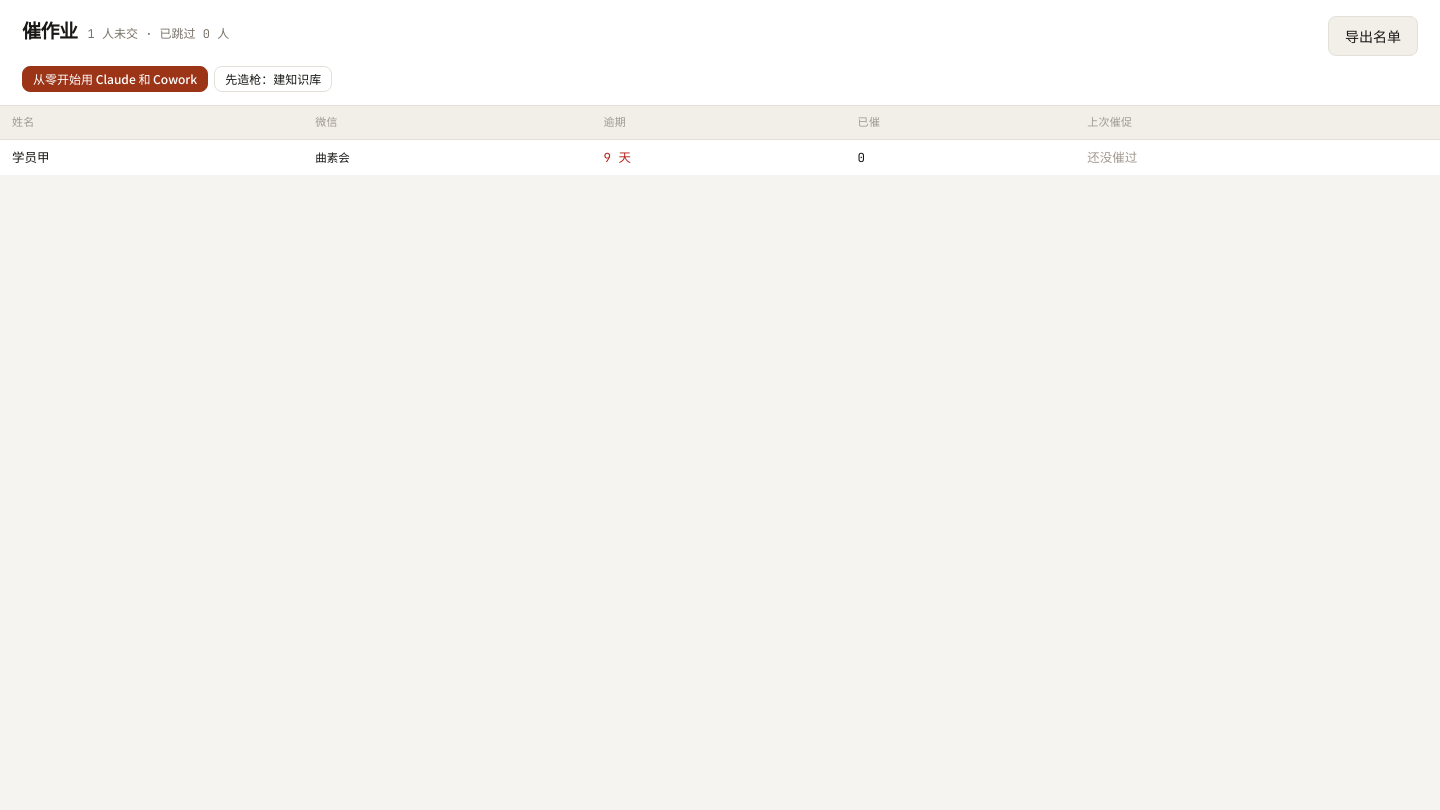
Test case: 发送邮件 › 发送失败时详情面板显示错误信息
Click the row with test id "nudge-alpha@example.com".
click(720, 157)  # box x1=0 y1=139 x2=1439 y2=175
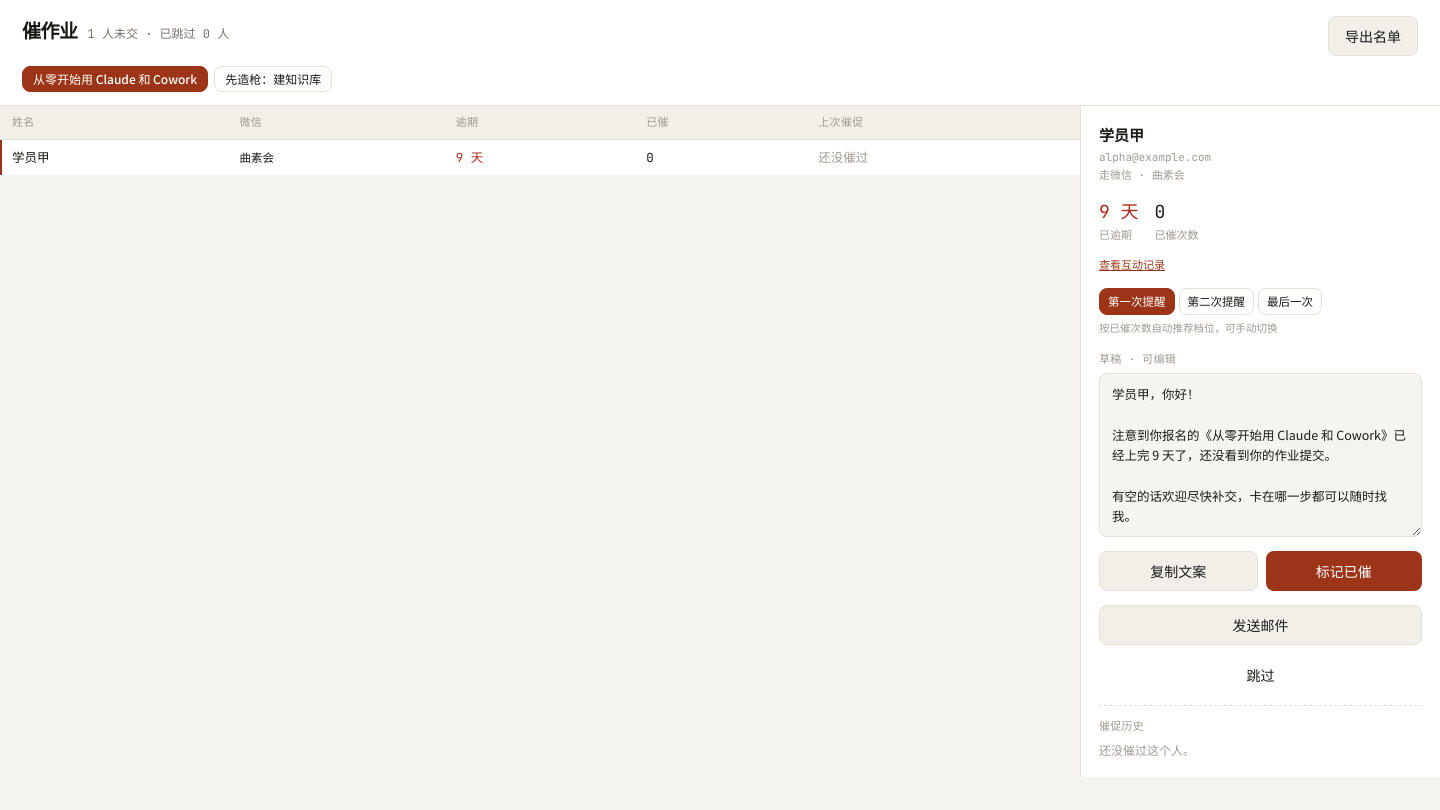
Click the button "发送邮件".
click(1260, 625)  # box x1=1099 y1=605 x2=1422 y2=645
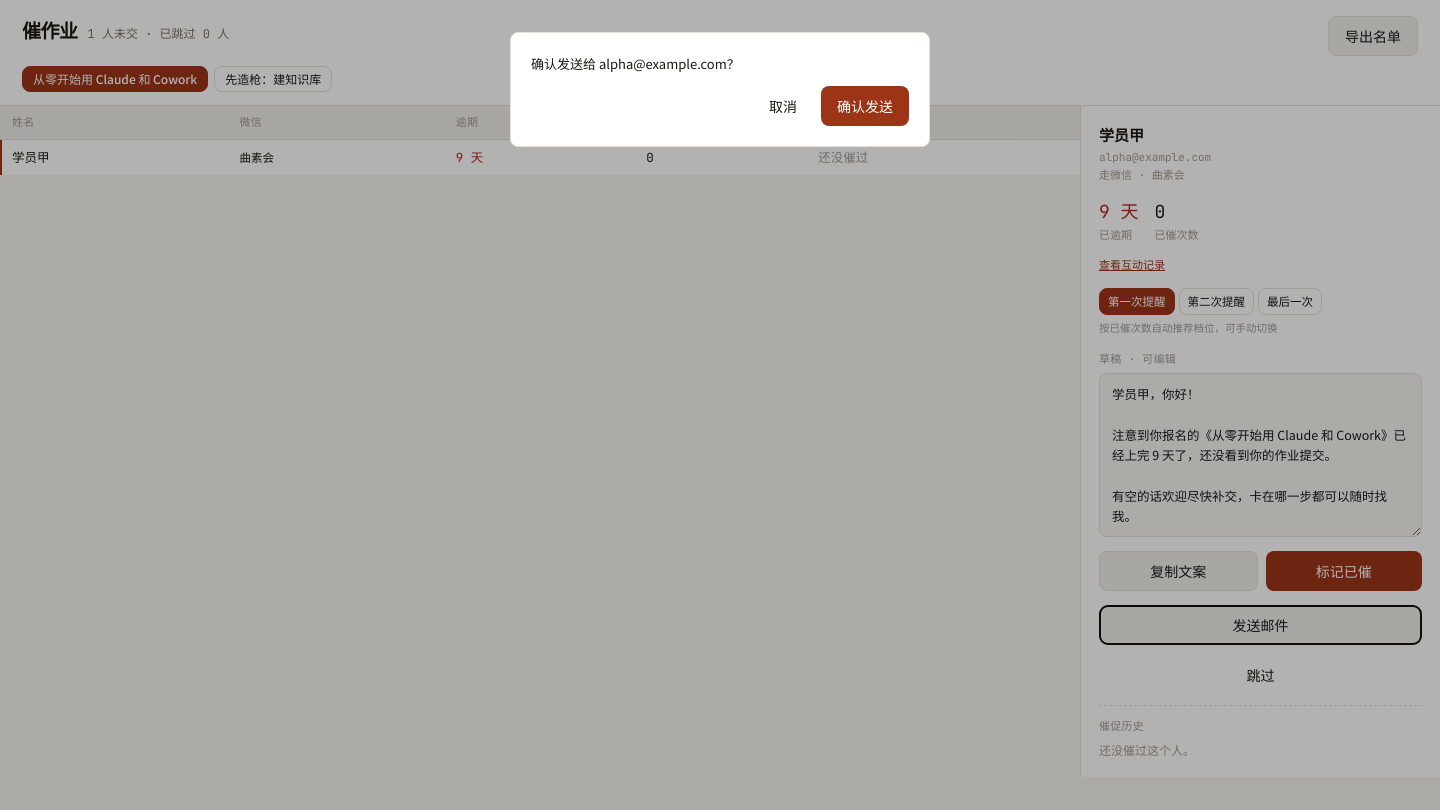
Click the button "确认发送".
click(865, 106)  # box x1=821 y1=86 x2=909 y2=126
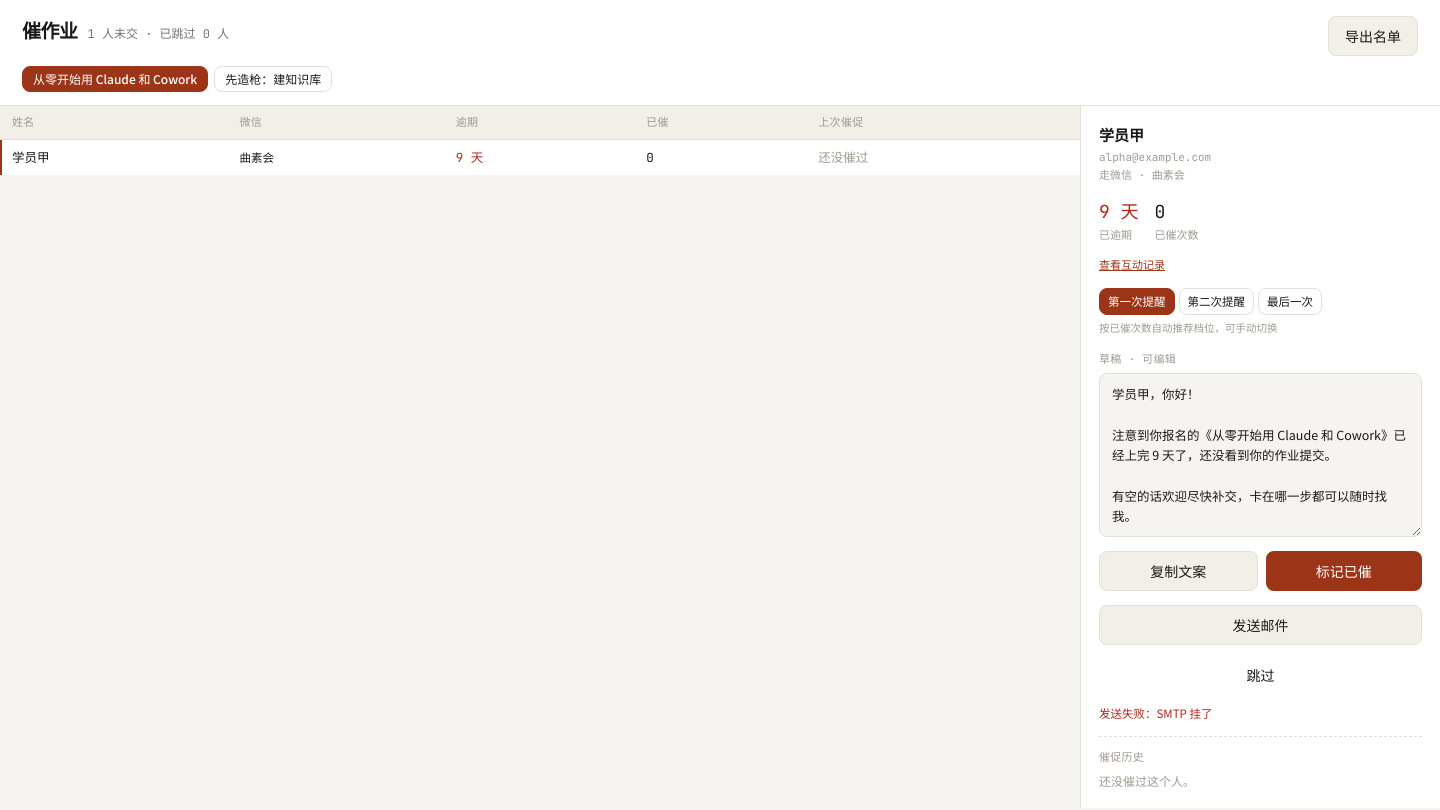
Now the text "发送失败：SMTP 挂了" is shown, box x1=1099 y1=705 x2=1212 y2=721
